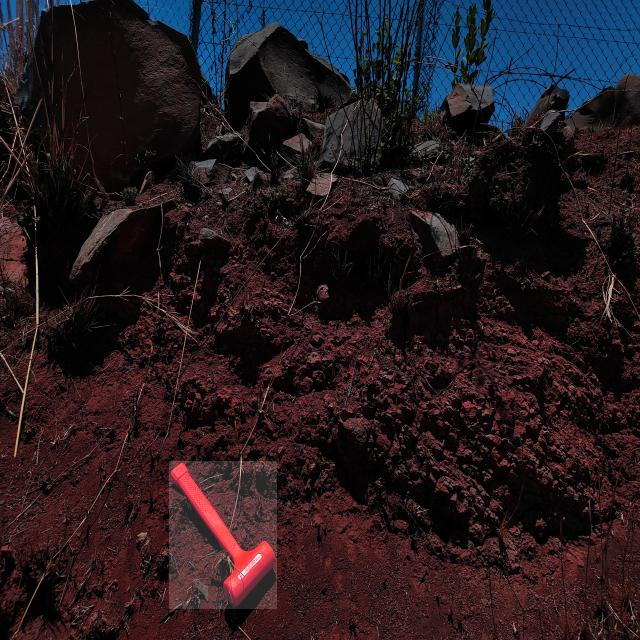Orange_hammer: (169, 461, 277, 609)
